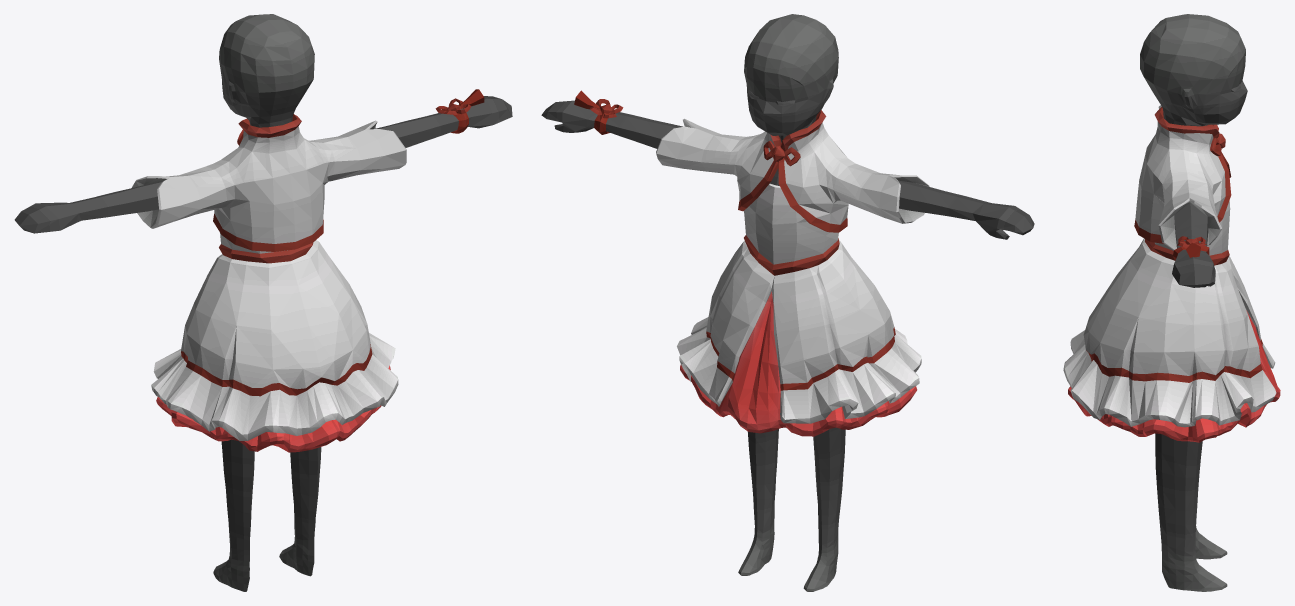
Rendered from CharSkyKid_Body_RibbonSkirt.glb.
The picture shows the model from 3 angles, left to right: view 1: azimuth 30°, elevation 25°; view 2: azimuth 150°, elevation 25°; view 3: azimuth 270°, elevation 25°; orthographic projection.
Parts seen in each view (by area): view 1: CharSkyKid_Body_RibbonSkirt; view 2: CharSkyKid_Body_RibbonSkirt; view 3: CharSkyKid_Body_RibbonSkirt.
Part boxes in pixels (x1,y1,x2,y2): CharSkyKid_Body_RibbonSkirt: (14, 14, 512, 591); CharSkyKid_Body_RibbonSkirt: (541, 14, 1034, 591); CharSkyKid_Body_RibbonSkirt: (1063, 14, 1280, 591).
Bounding box in the file's own units: 13.83 × 14.94 × 5.31.
1 material, 1 textured.
